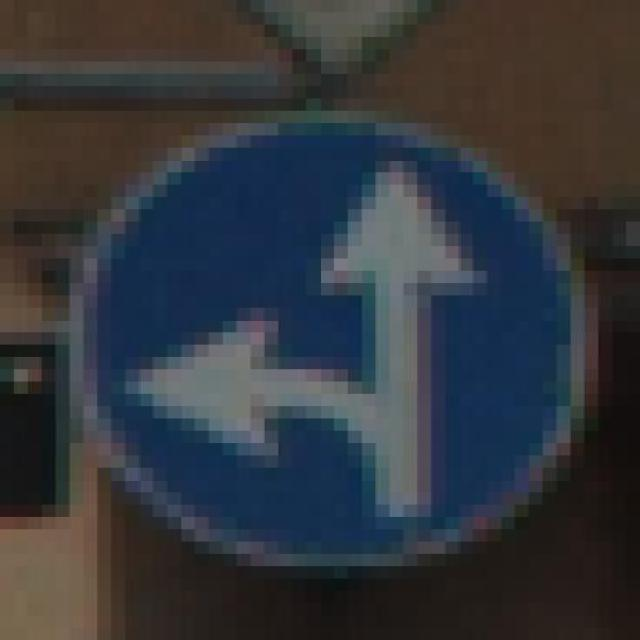Go straight or turn left: (56, 111, 626, 603)
